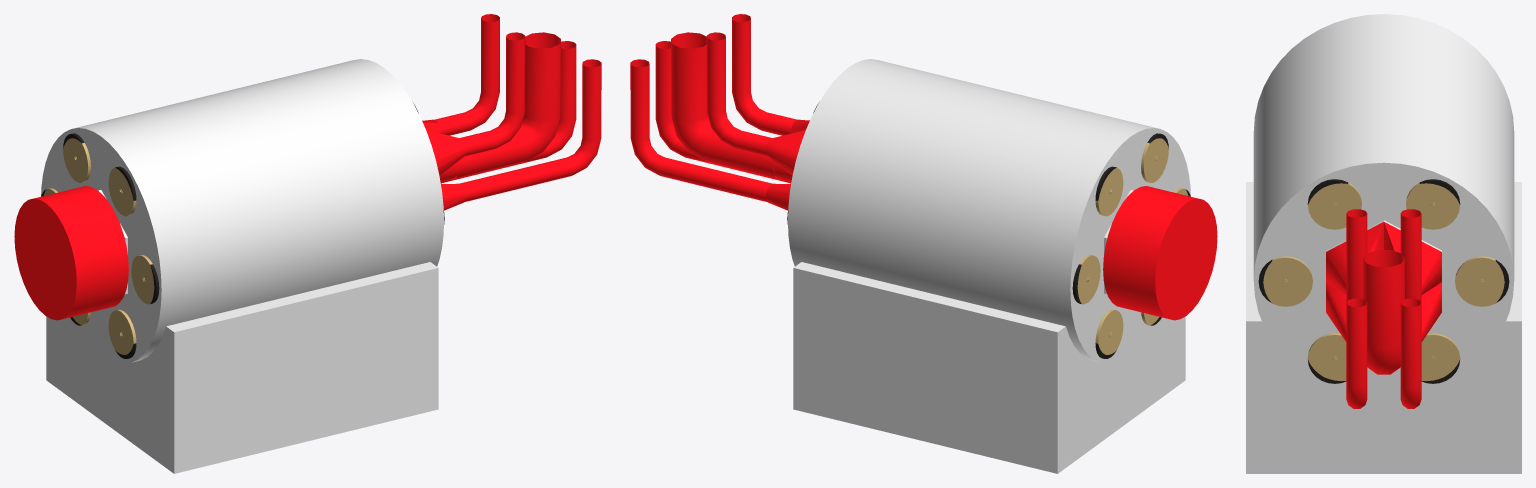
Rendered from NuclearCore.glb.
3 renders of one model, left to right at view 1: azimuth 30°, elevation 25°; view 2: azimuth 150°, elevation 25°; view 3: azimuth 270°, elevation 25°, orthographic. The views are drawn at different scales.
Parts seen in each view (by area): view 1: HeatPipeSystem, ControlRods; view 2: HeatPipeSystem, ControlRods; view 3: HeatPipeSystem, ControlRods.
Part boxes in pixels (box(x1,y1,x2,y2)): HeatPipeSystem: box(14, 14, 601, 473); ControlRods: box(41, 103, 444, 358); HeatPipeSystem: box(630, 14, 1217, 473); ControlRods: box(787, 103, 1190, 358); HeatPipeSystem: box(1246, 14, 1521, 473); ControlRods: box(1258, 179, 1509, 383).
Size of what is drawn, in the model's own units: 0.1918 by 0.1028 by 0.0784.
